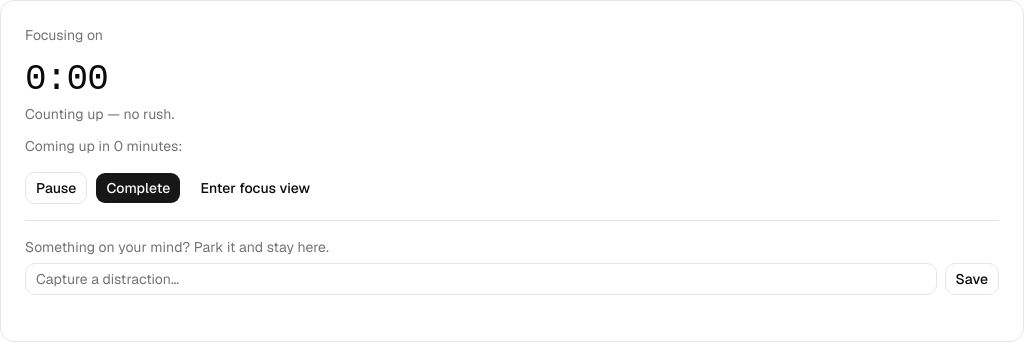
FocusSession › saves a distraction to the Inbox and confirms without leaving the task
This screenshot has width=1024, height=359.
Type "Reply to Sam" into the field labelled "Something on your mind? Park it and stay here.". click: (481, 279)
box: [25,263,936,295]
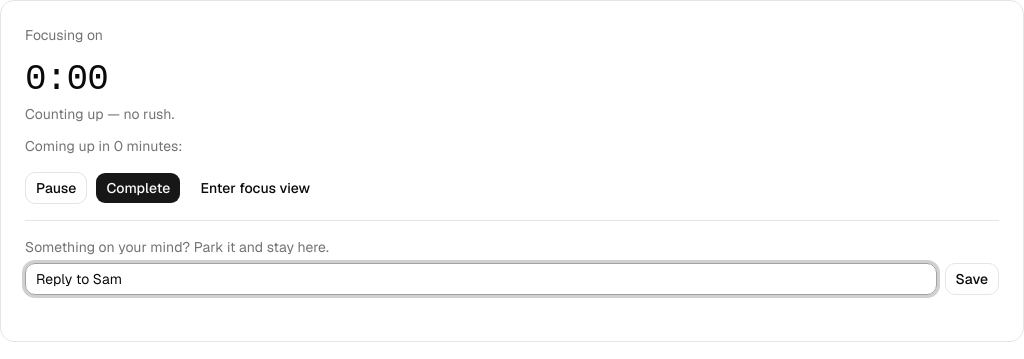
Click the button "Save". click: (972, 279)
box: [944,263,999,295]
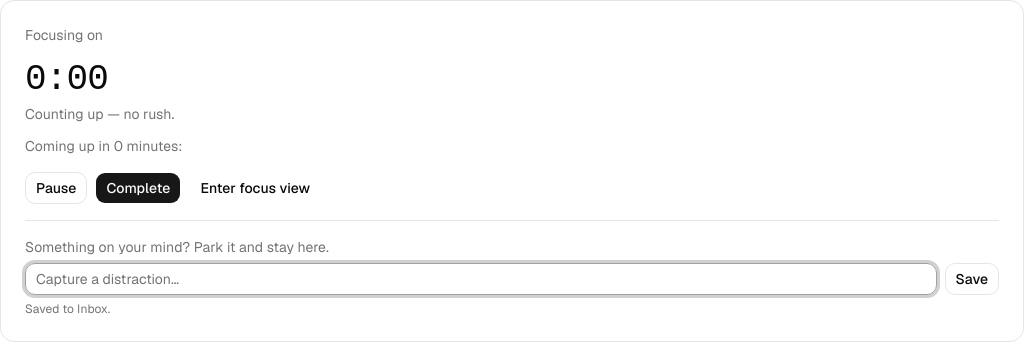
Now the text "Saved to Inbox." is shown, box [25,301,110,317]
Now the field labelled "Something on your mind? Park it and stay here." is empty, box [25,263,936,295]
